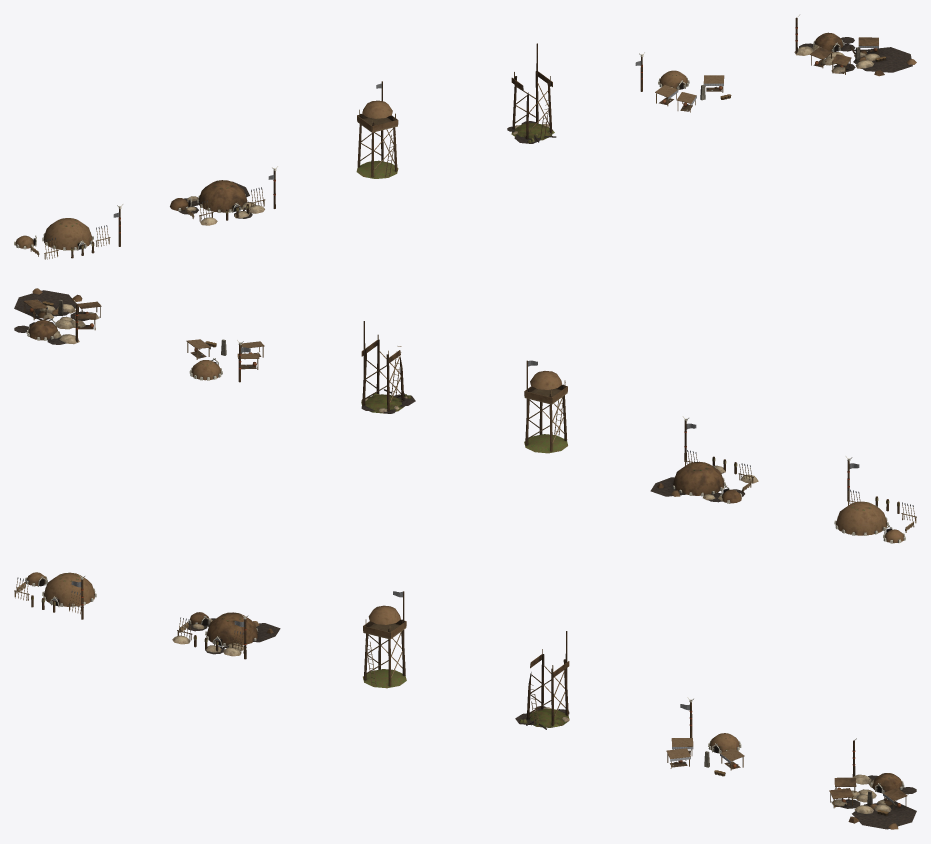
The model's file is rts-stone-steppe.glb.
The picture shows the model from 3 angles, top to bottom: view 1: azimuth 30°, elevation 25°; view 2: azimuth 150°, elevation 25°; view 3: azimuth 330°, elevation 25°; orthographic projection. The views are drawn at different scales.
Visible parts, largest first — view 1: LOD0.005, LOD0.001, LOD0.002, LOD0, LOD0.003, LOD0.004; view 2: LOD0.005, LOD0.001, LOD0.002, LOD0, LOD0.003, LOD0.004; view 3: LOD0.005, LOD0.001, LOD0.002, LOD0, LOD0.003, LOD0.004.
Boxes of the visible parts, x1,y1,x2,y2 form: LOD0.005: (794, 14, 916, 76); LOD0.001: (170, 166, 277, 225); LOD0.002: (356, 81, 398, 178); LOD0: (14, 204, 122, 259); LOD0.003: (507, 43, 556, 143); LOD0.004: (635, 52, 731, 112); LOD0.005: (14, 288, 101, 344); LOD0.001: (650, 416, 758, 503); LOD0.002: (524, 360, 567, 453); LOD0: (834, 456, 916, 543); LOD0.003: (361, 321, 415, 413); LOD0.004: (186, 339, 264, 382); LOD0.005: (829, 738, 916, 829); LOD0.001: (172, 612, 280, 659); LOD0.002: (363, 591, 406, 688); LOD0: (14, 572, 96, 619); LOD0.003: (515, 631, 569, 729); LOD0.004: (666, 697, 744, 776).
Size of what is drawn, in the model's own units: 16.82 by 1.5 by 1.85.
Materials: 2 (2 with a texture image).
